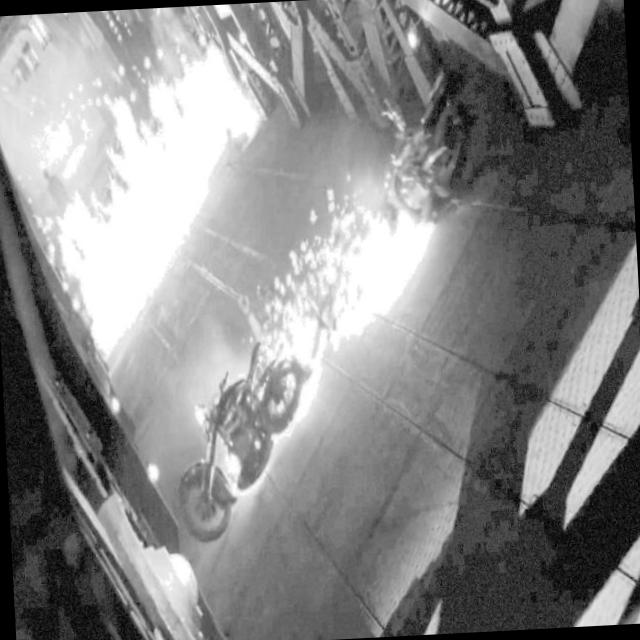Motorcycle: (155, 317, 324, 574), (356, 129, 494, 261)
